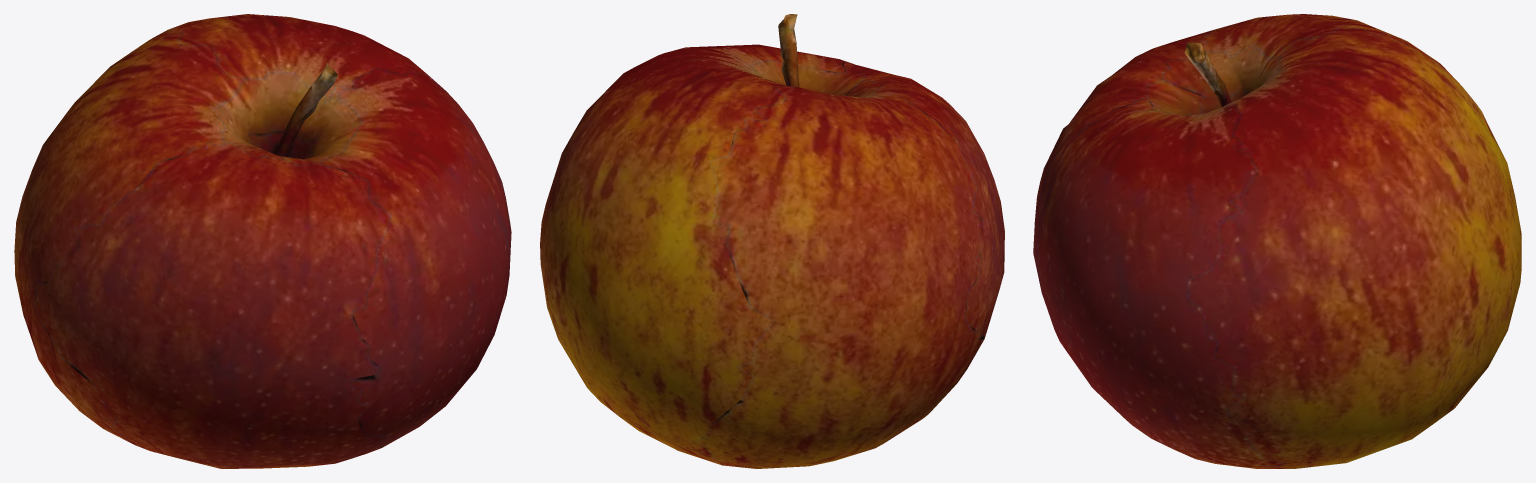
The model's file is food_apple_01.glb.
The picture shows the model from 3 angles, left to right: view 1: azimuth 30°, elevation 25°; view 2: azimuth 150°, elevation 25°; view 3: azimuth 270°, elevation 25°; orthographic projection. The views are drawn at different scales.
Visible parts, largest first — view 1: food_apple_01; view 2: food_apple_01; view 3: food_apple_01.
Boxes of the visible parts, x1=… form: food_apple_01: x1=14, y1=14, x2=511, y2=468; food_apple_01: x1=540, y1=14, x2=1004, y2=468; food_apple_01: x1=1033, y1=14, x2=1521, y2=468.
Size of the model in its own units: 0.0973 by 0.0854 by 0.0958.
Materials: 1 (1 with a texture image).
